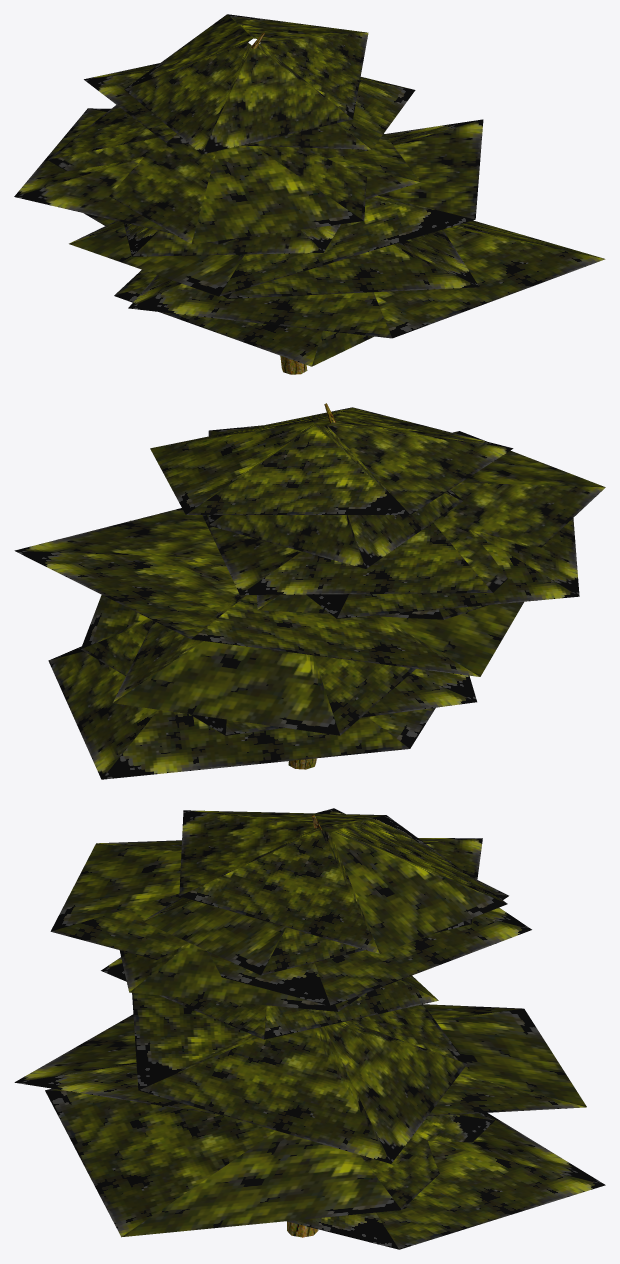
File: WeirdTree.fbx
3 renders of one model, top to bottom at view 1: azimuth 30°, elevation 25°; view 2: azimuth 150°, elevation 25°; view 3: azimuth 270°, elevation 25°, orthographic. The views are drawn at different scales.
Parts seen in each view (by area): view 1: Cylinder; view 2: Cylinder; view 3: Cylinder.
Boxes of the visible parts, x1=… form: Cylinder: x1=14, y1=14, x2=605, y2=374; Cylinder: x1=14, y1=403, x2=605, y2=779; Cylinder: x1=14, y1=808, x2=605, y2=1249.
Size of the model in its own units: 1970 by 1275 by 1706.
2 materials, 2 textured.
